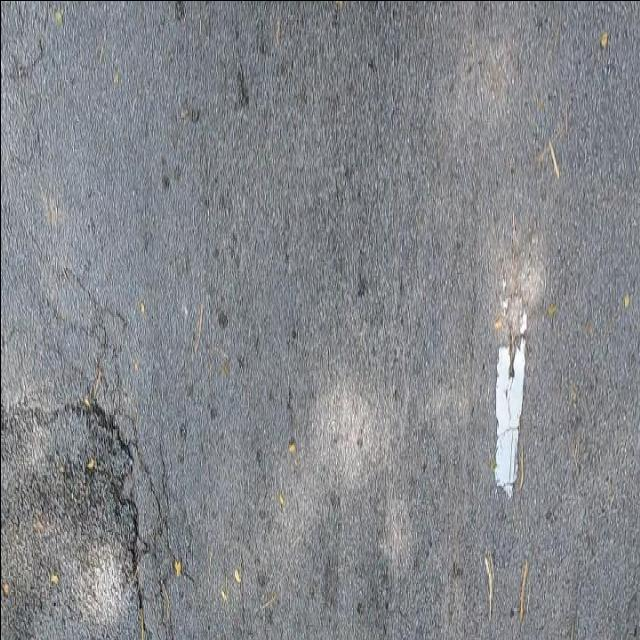cracks: (0, 316, 199, 640)
